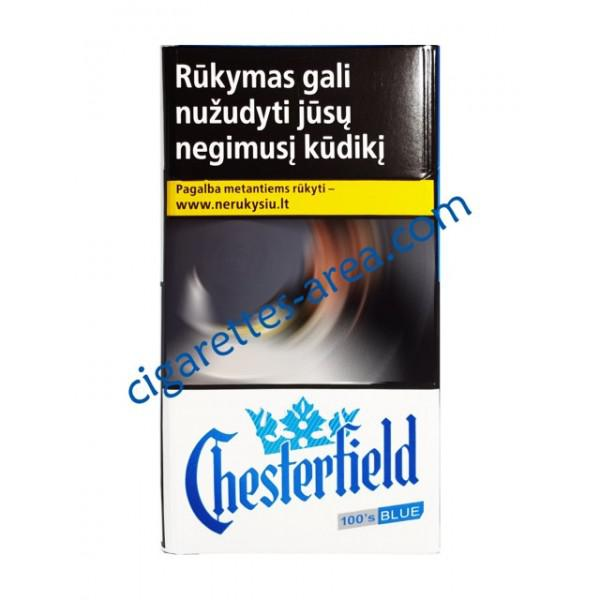chesterfield_blue: (163, 49, 438, 561)
